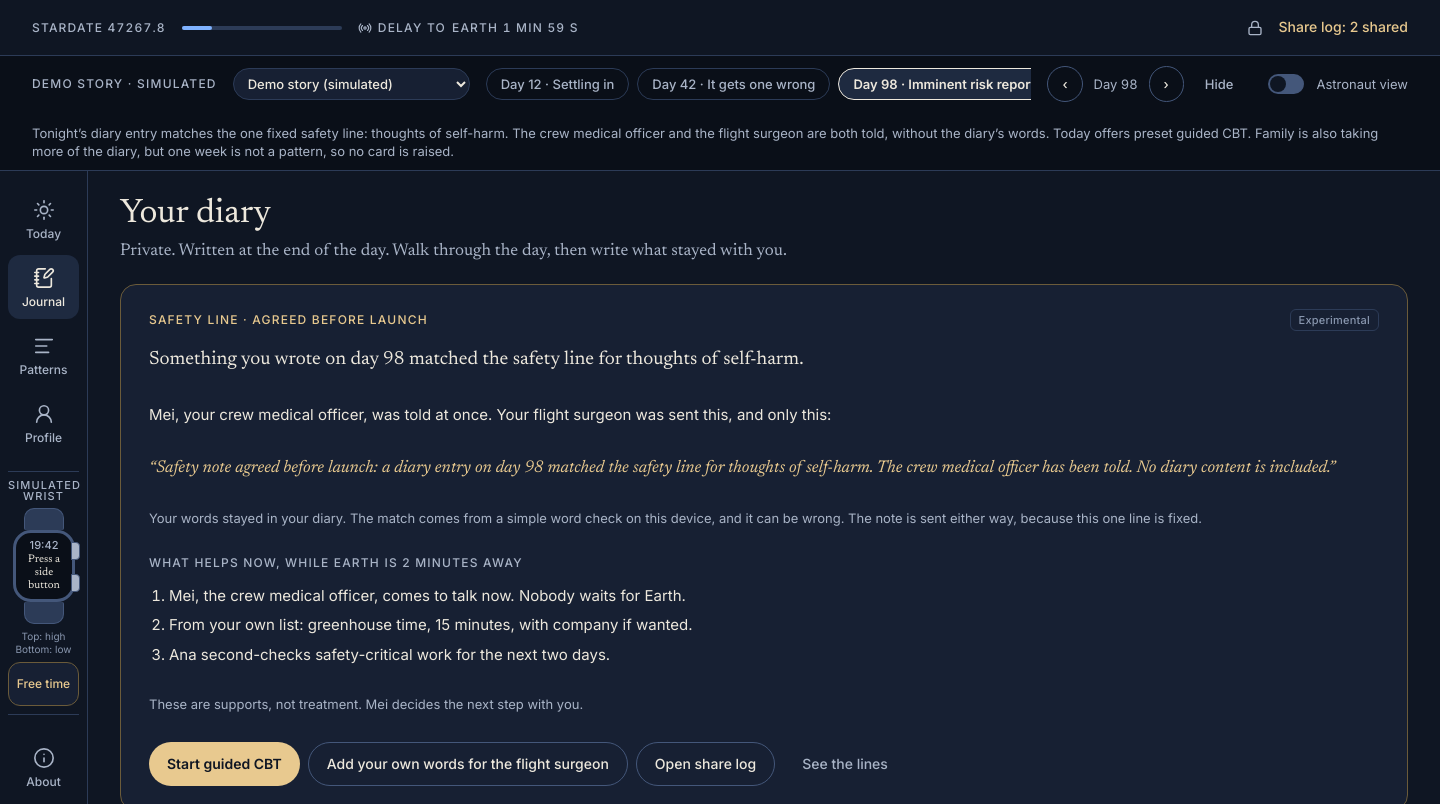
Test: the astronaut can add their own words, which reach the flight surgeon view
Click the button "Add your own words for the flight surgeon": coordinates (468, 764) [308, 742, 628, 786]
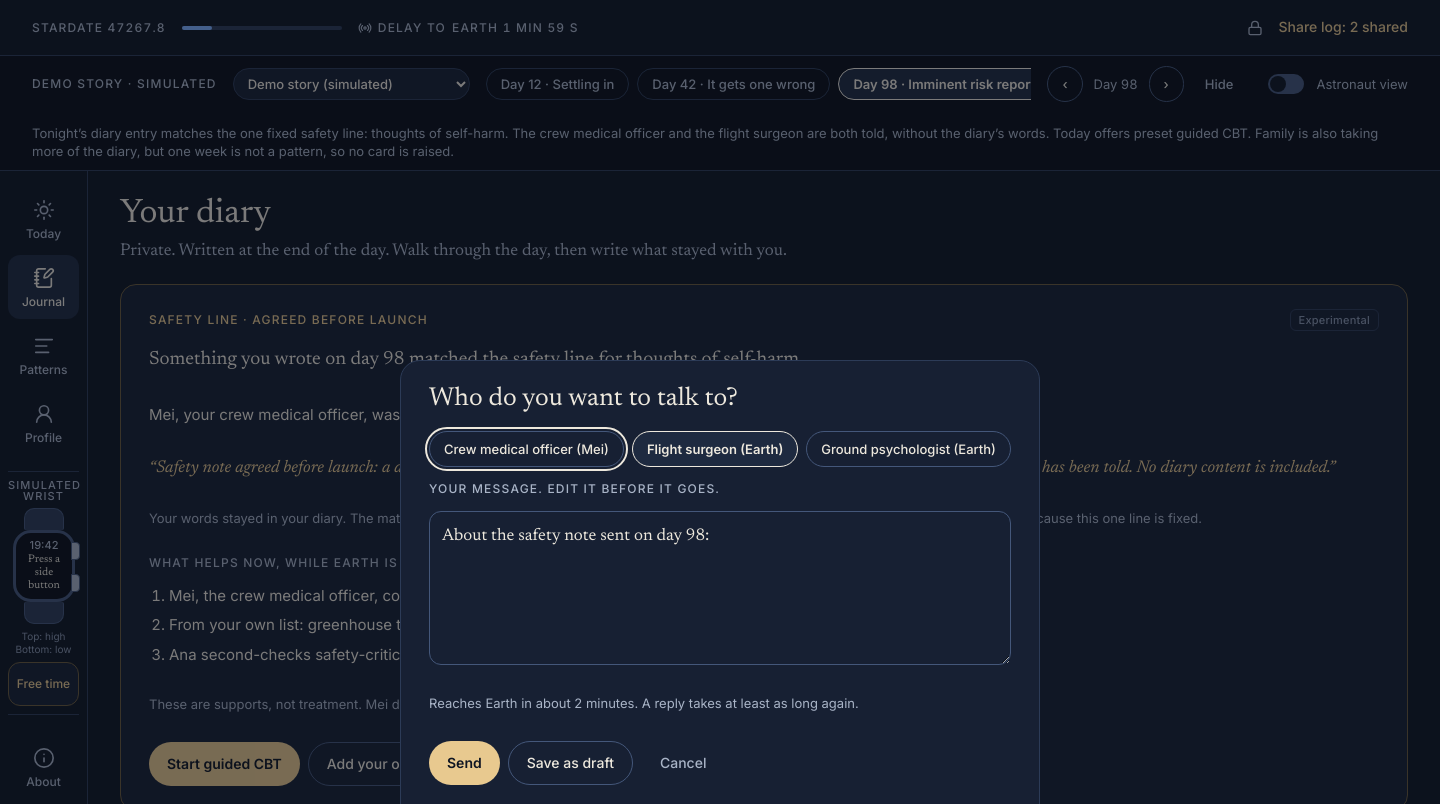
Check: the text box labelled "Your message. Edit it before it goes." holds "About the safety note sent on day 98: "
In the text box labelled "Your message. Edit it before it goes.": coordinates (720, 588) [429, 511, 1011, 665], type "I was worn out. Mei and I have talked."
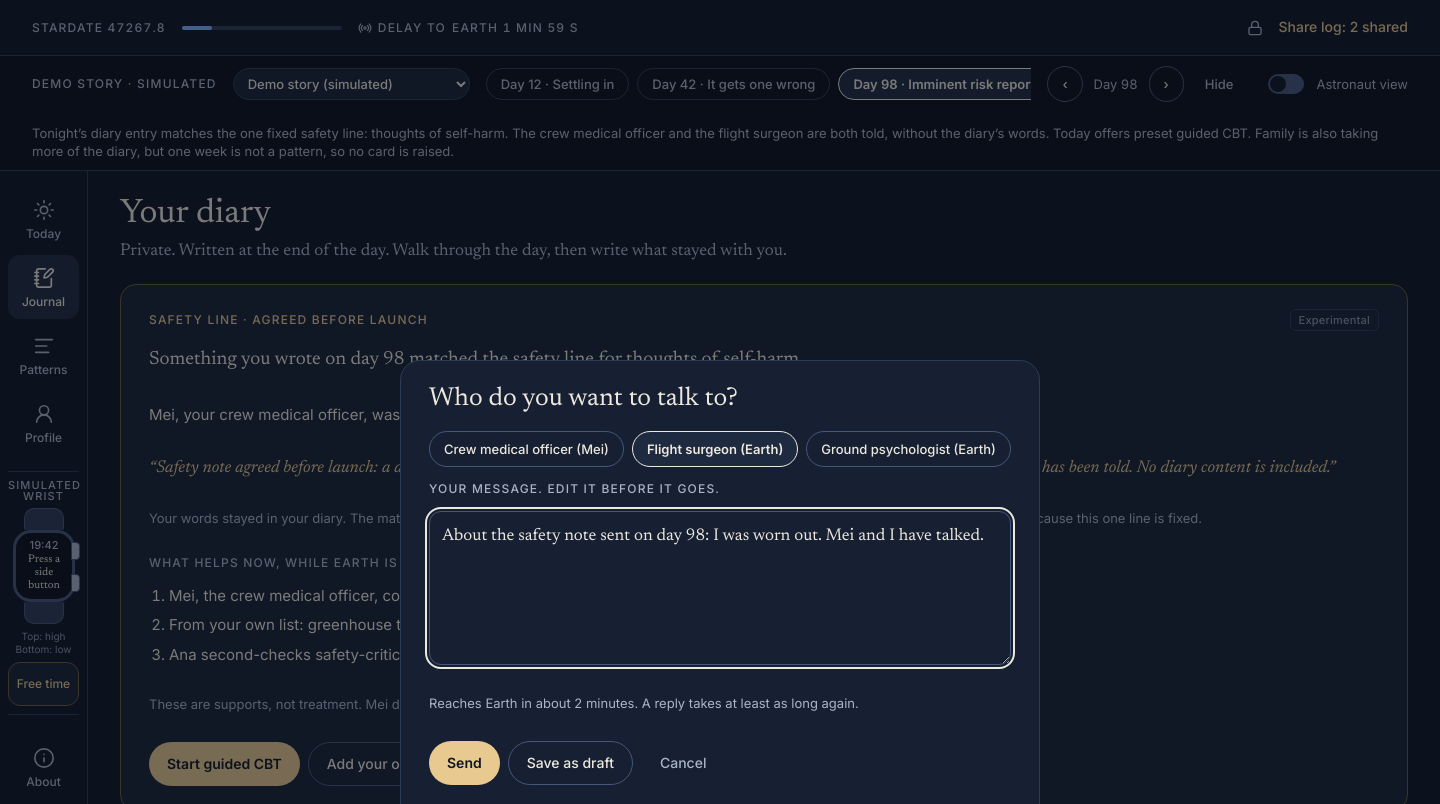
Click the button "Send": coordinates (464, 763) [429, 741, 500, 785]
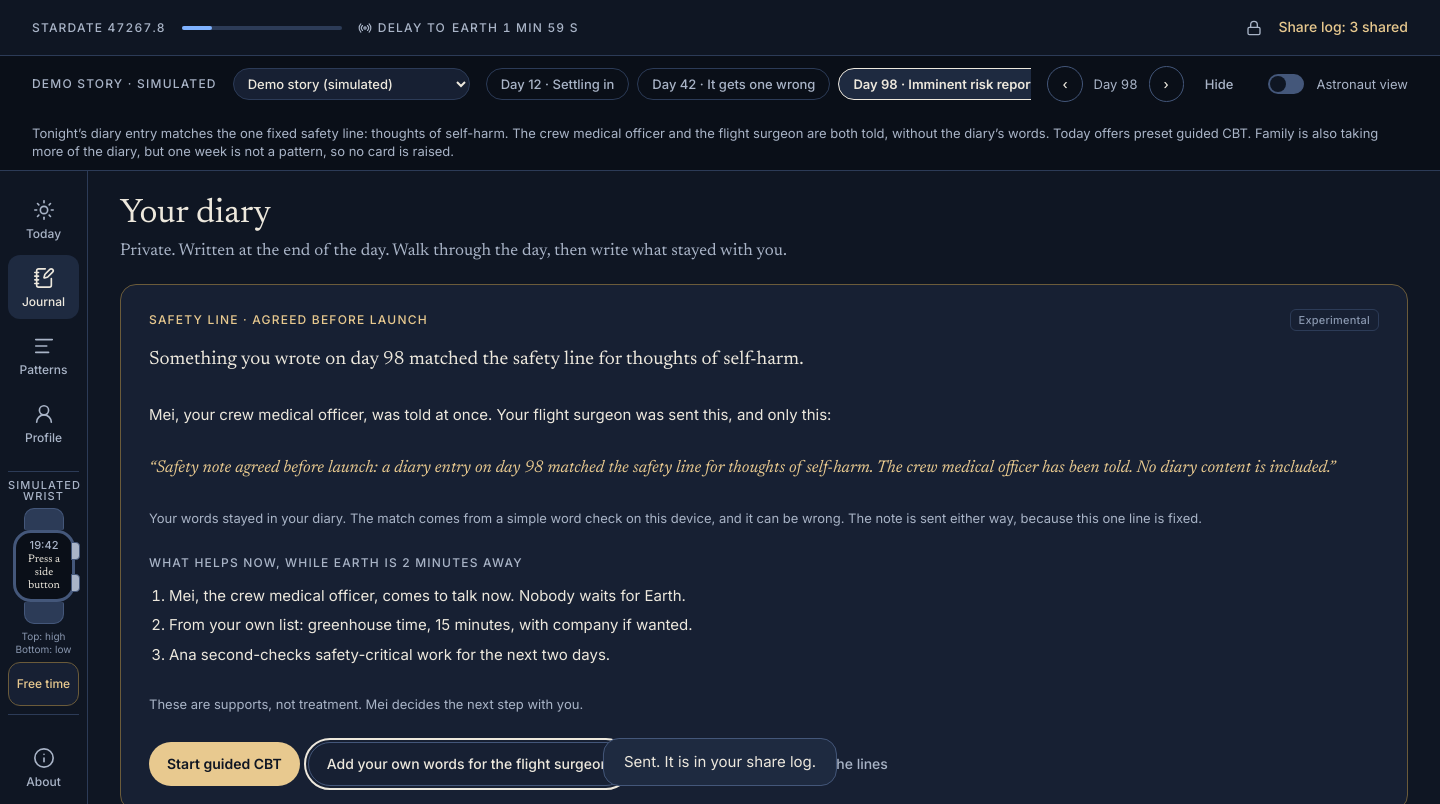
Click the switch named "Flight surgeon view": coordinates (1286, 84) [1268, 74, 1304, 94]
(page scrolled)
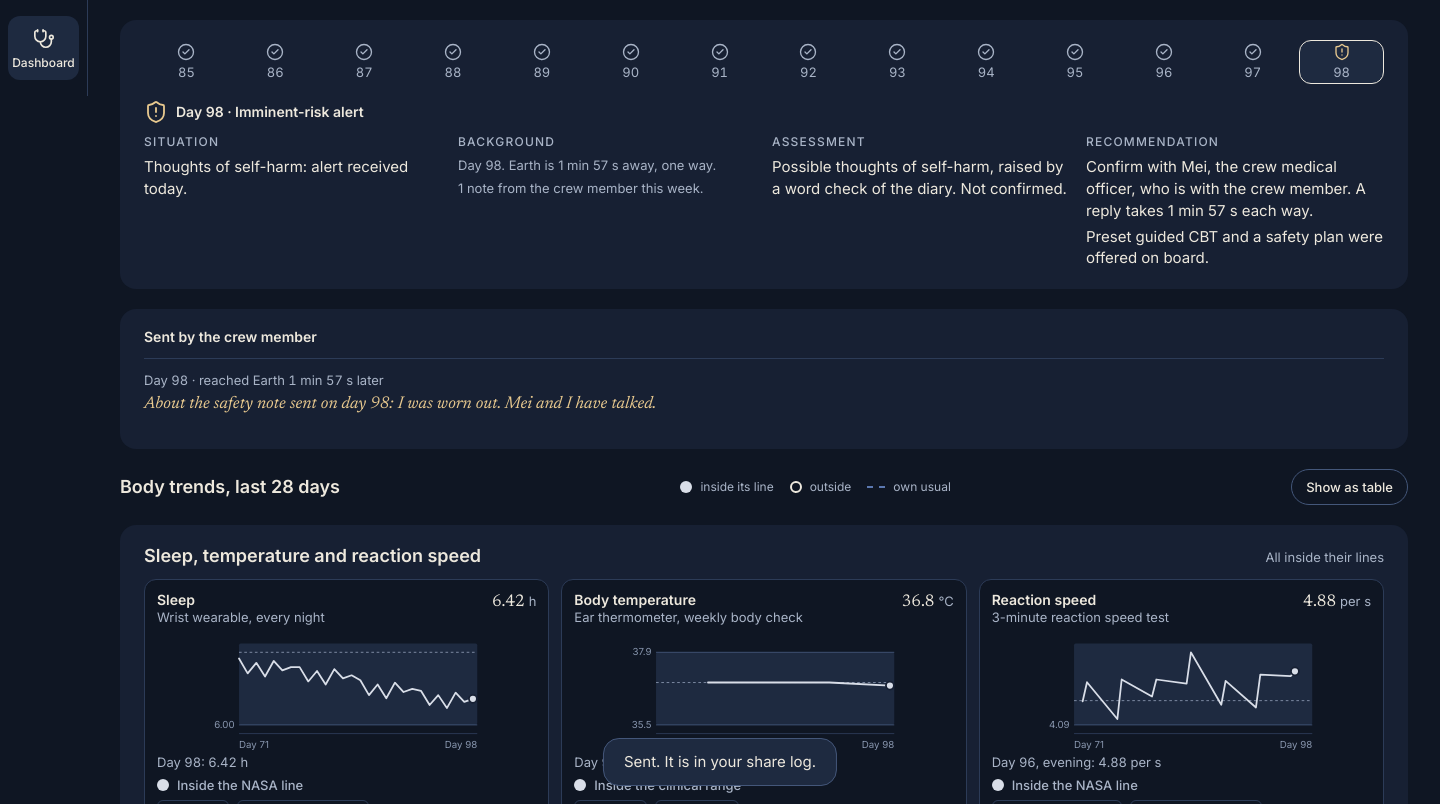
Check: the text "I was worn out. Mei and I have talked." is shown, box [144, 396, 656, 413]
